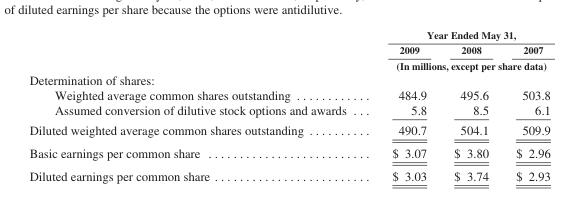table: (28, 28, 549, 182)
table column: (28, 28, 368, 182), (368, 28, 439, 182), (439, 28, 501, 182), (501, 28, 549, 182)
table column header: (28, 28, 549, 71)
table projected row header: (28, 71, 549, 87)
table row: (28, 141, 549, 164), (28, 119, 549, 141), (28, 164, 549, 182), (28, 102, 549, 119), (28, 71, 549, 87), (28, 42, 549, 57), (28, 87, 549, 102), (28, 28, 549, 42), (28, 57, 549, 71)
table spanning cell: (368, 28, 549, 42), (368, 57, 549, 71)
